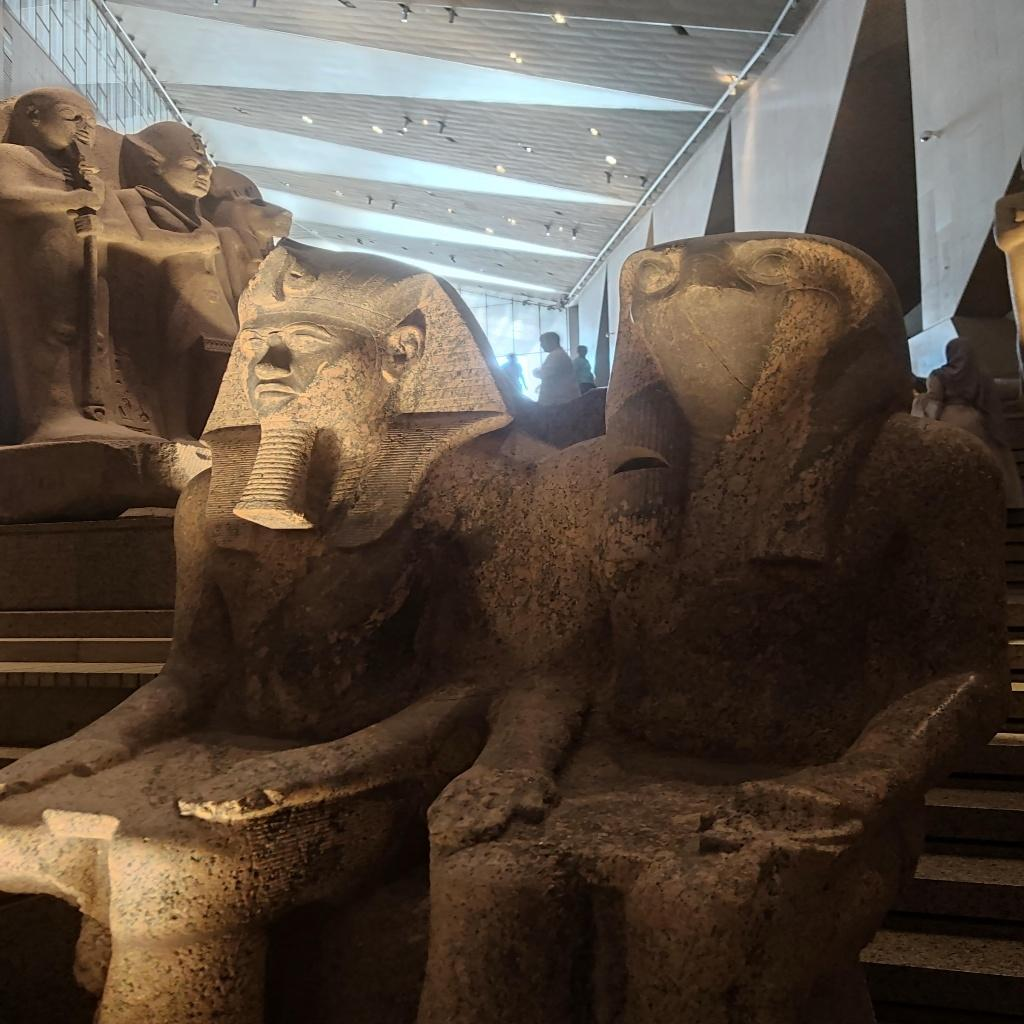Statue of Amenhotep III and God Re-Horakhty: (146, 217, 1018, 1001)
